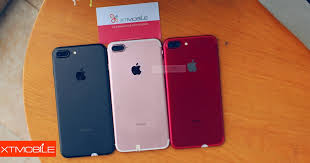iphone: (161, 31, 229, 153), (51, 38, 119, 160)
